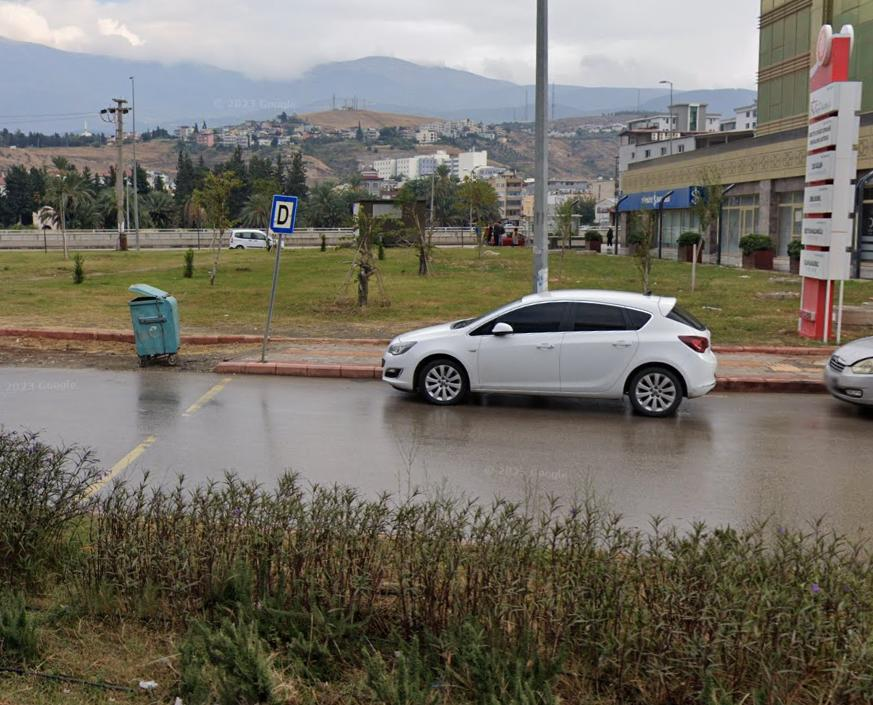station: (271, 194, 295, 233)
